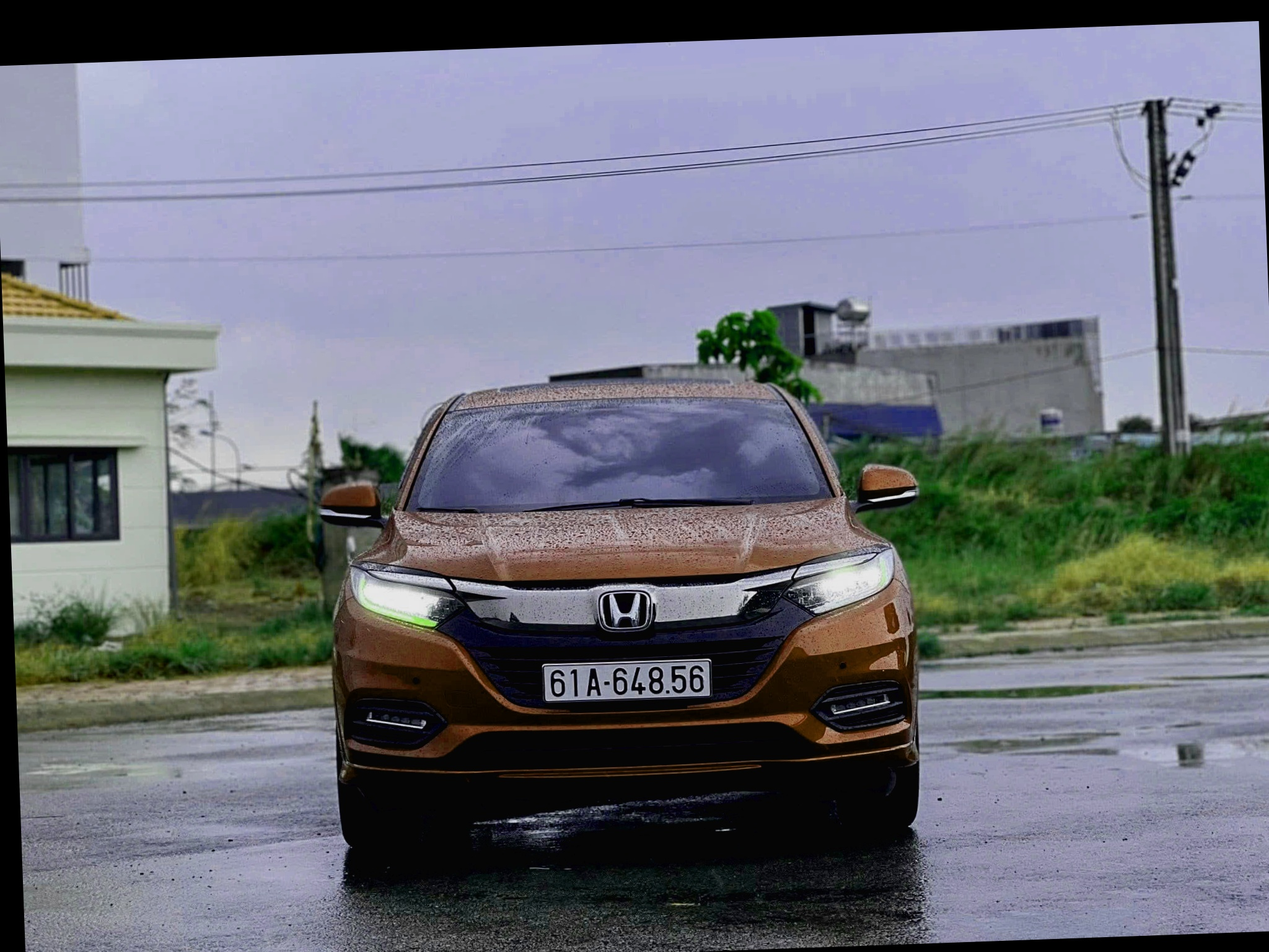Bien-so: (538, 621, 710, 667)
